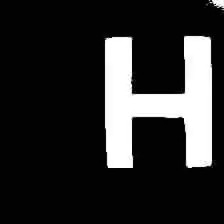LTR_H: (91, 26, 221, 180)
